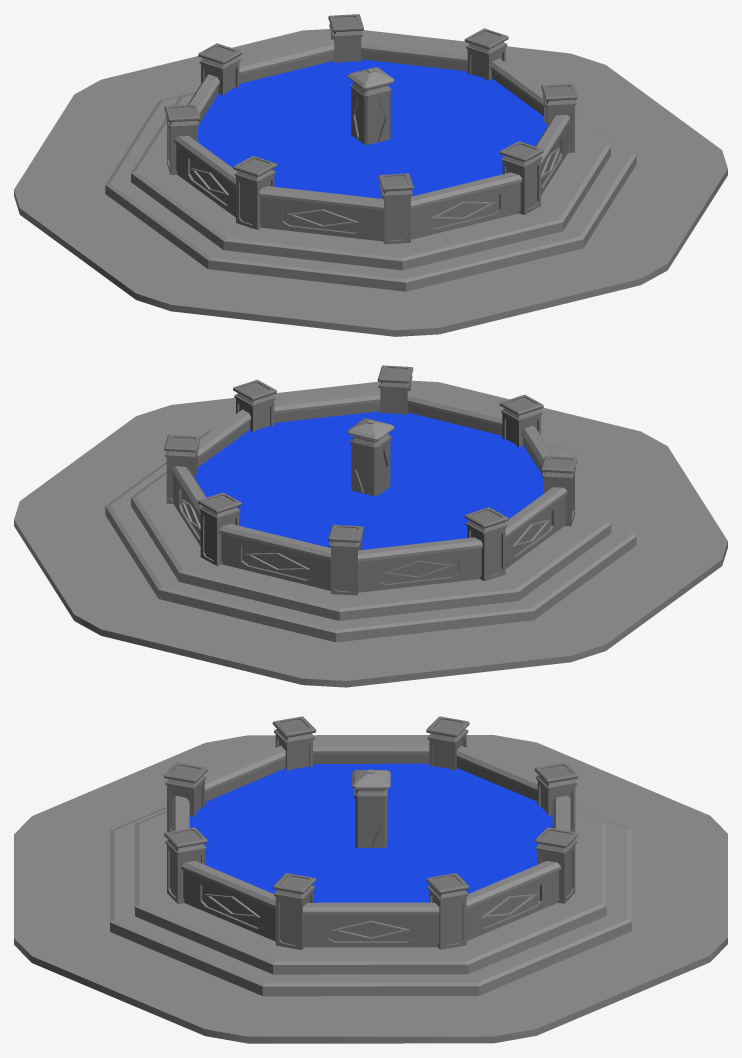
Rendered from fountain_b.FBX.
3 views of the same model, one above another, from view 1: azimuth 30°, elevation 25°; view 2: azimuth 150°, elevation 25°; view 3: azimuth 270°, elevation 25° (orthographic). The views are drawn at different scales.
Parts seen in each view (by area): view 1: fountain_b; view 2: fountain_b; view 3: fountain_b.
Boxes of the visible parts, x1,y1,x2,y2 form: fountain_b: (14, 14, 727, 336); fountain_b: (14, 365, 727, 687); fountain_b: (14, 716, 727, 1043).
Size of the model in its own units: 8.51 by 1.6 by 8.51.
